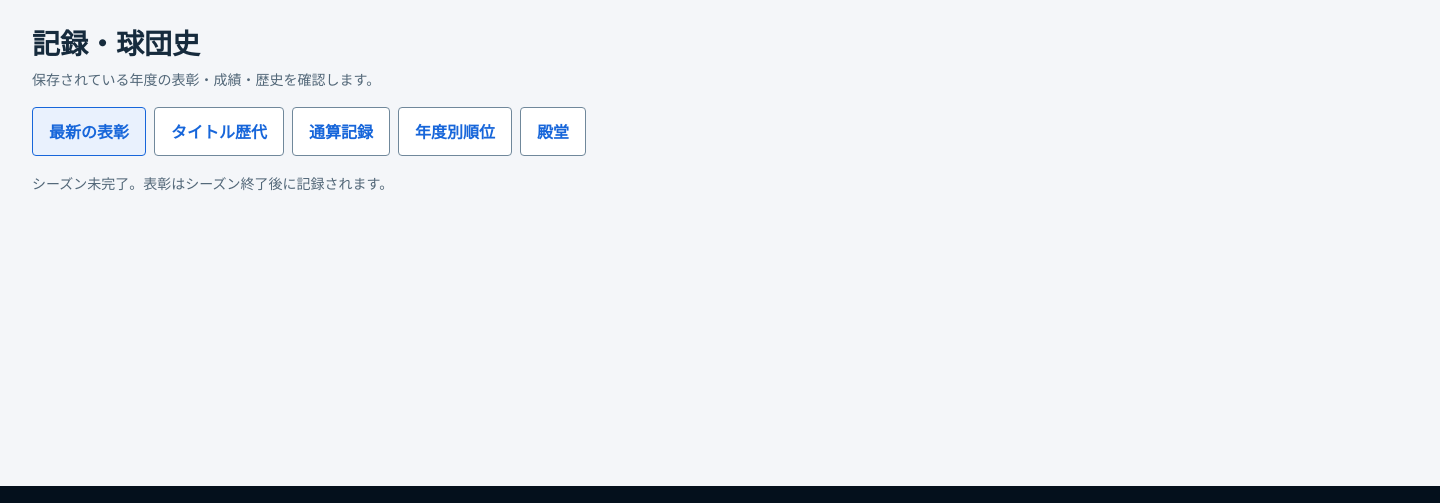
it: a missing HR record does not hide a recorded zero strikeout season behind a no-record label
Step 1. Click the button "通算記録" → (341,132), box [292,108,390,156]
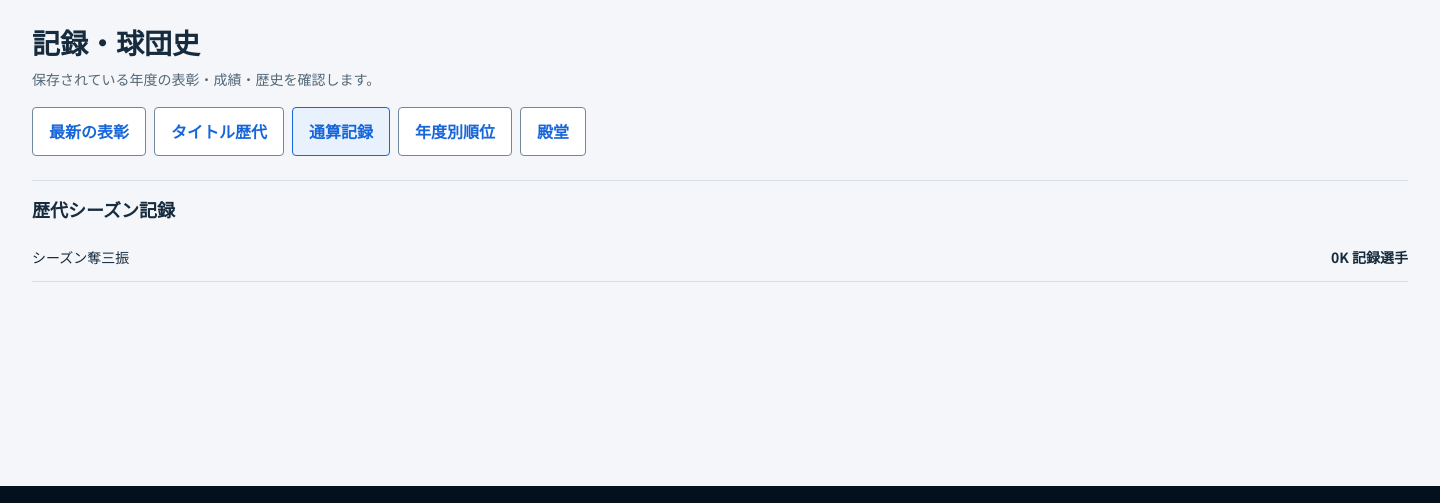
Now the text "0K" is shown, box [1331,247,1349,267]
